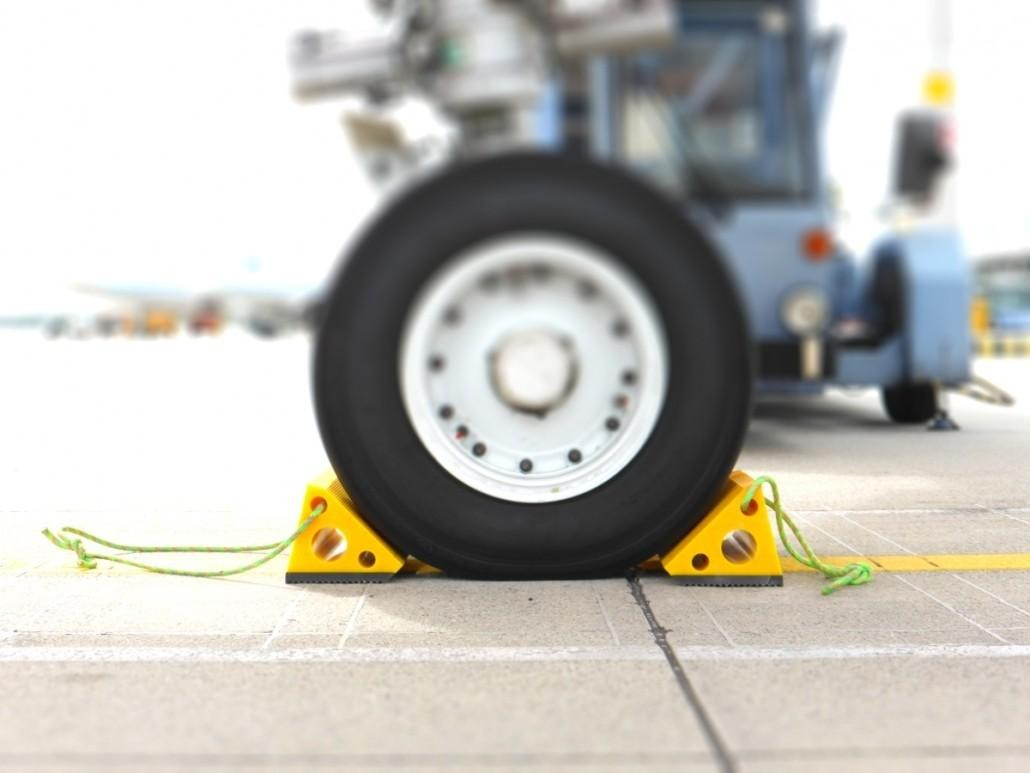chock: (650, 470, 787, 584), (283, 465, 413, 583)
wheel: (316, 154, 745, 579), (883, 381, 938, 423)
